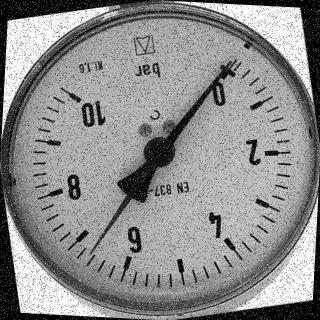gauge: (1, 0, 320, 320), (54, 77, 96, 119), (205, 57, 240, 99), (142, 135, 177, 169), (85, 244, 98, 258), (224, 55, 236, 69)
